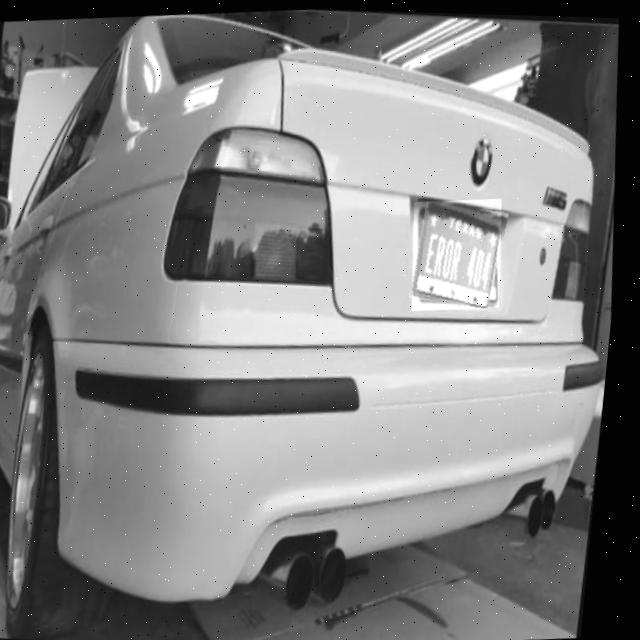LicensePlate: (418, 198, 505, 304)
